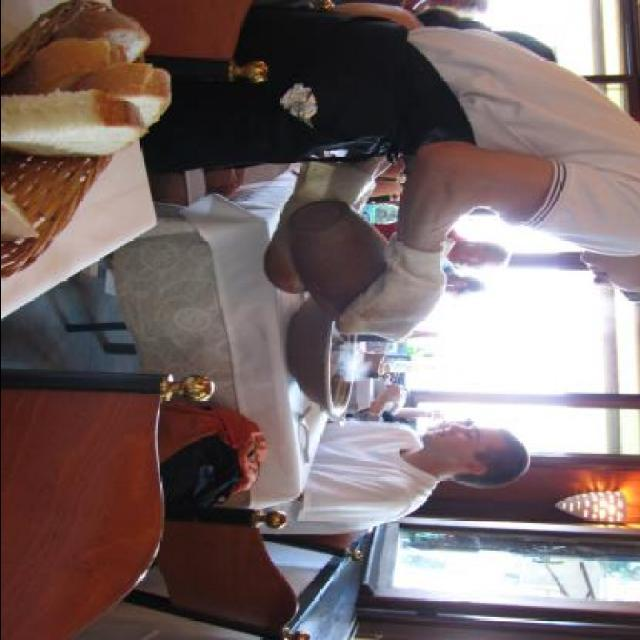Bread: (2, 43, 130, 94), (72, 64, 172, 122), (65, 13, 153, 59)
